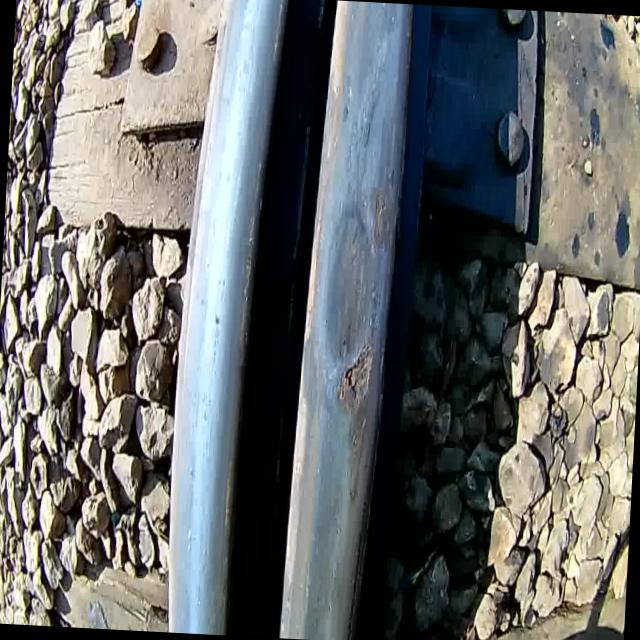Flakings: (213, 0, 290, 637)
Spallings: (322, 323, 390, 457), (354, 173, 404, 263)
Squats: (305, 186, 387, 376), (338, 392, 380, 520)
